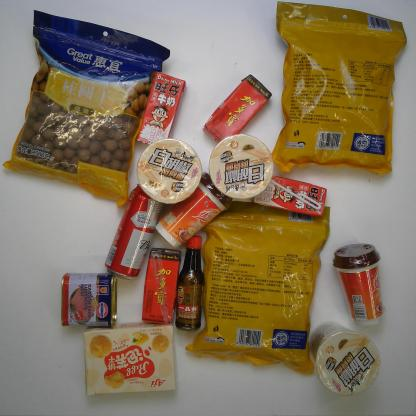Alcohol: (101, 184, 169, 283)
Canned Food: (55, 267, 119, 330)
Dessert: (78, 314, 182, 400)
Dried Food: (3, 6, 171, 210), (184, 198, 338, 376), (266, 2, 412, 178)
Drink: (199, 72, 275, 144), (138, 246, 182, 325)
Instant Drink: (153, 168, 233, 248), (331, 234, 388, 330)
Instant Noodles: (308, 321, 387, 398), (206, 128, 277, 204), (132, 134, 204, 206)
Milk: (135, 66, 187, 151), (254, 170, 332, 219)
Seasoner: (172, 234, 212, 335)
